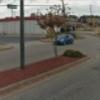cars: (55, 34, 76, 46)
